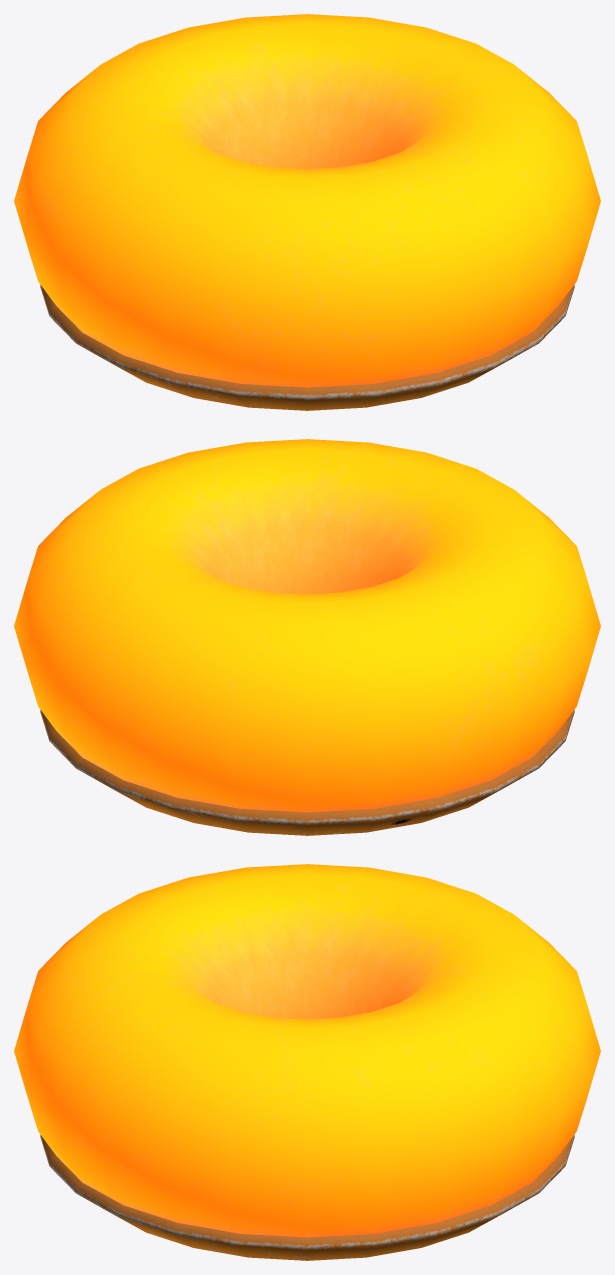
The model's file is donut_lamp__game-ready_pbr_3d_model.glb.
3 renders of one model, top to bottom at view 1: azimuth 30°, elevation 25°; view 2: azimuth 150°, elevation 25°; view 3: azimuth 270°, elevation 25°, orthographic.
Visible parts, largest first — view 1: Torus001__0; view 2: Torus001__0; view 3: Torus001__0.
Boxes of the visible parts, left/top/right/bottom form: Torus001__0: left=14, top=14, right=600, bottom=410; Torus001__0: left=14, top=439, right=600, bottom=835; Torus001__0: left=14, top=864, right=600, bottom=1260.
Bounding box in the file's own units: 0.3517 × 0.1453 × 0.3517.
1 material, 1 textured.
